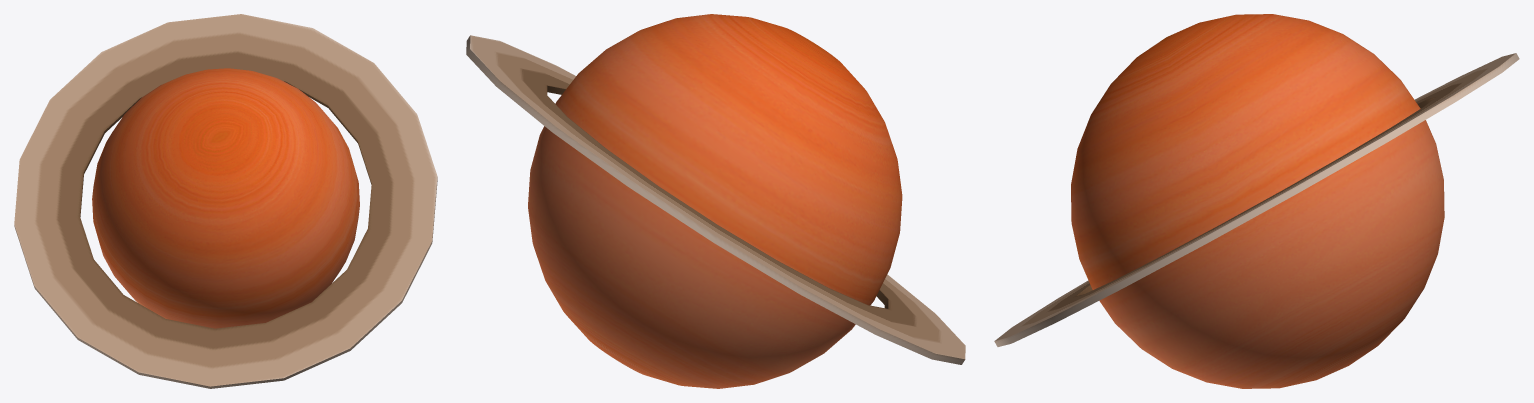
Rendered from planet.FBX.
The picture shows the model from 3 angles, left to right: view 1: azimuth 30°, elevation 25°; view 2: azimuth 150°, elevation 25°; view 3: azimuth 270°, elevation 25°; orthographic projection. The views are drawn at different scales.
Visible parts, largest first — view 1: planet; view 2: planet; view 3: planet.
Boxes of the visible parts, <box> form: planet: <box>14,14,437,388</box>; planet: <box>466,14,965,388</box>; planet: <box>994,14,1519,388</box>.
Bounding box in the file's own units: 45.29 × 30.18 × 42.18.
